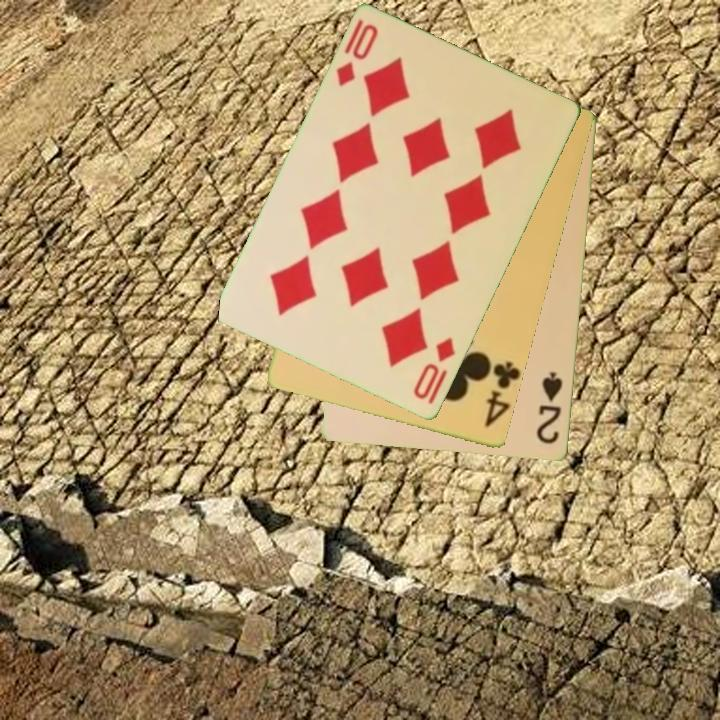10d: (409, 334, 459, 408), (332, 16, 382, 90)
2s: (533, 369, 566, 447)
4c: (481, 358, 522, 430)
